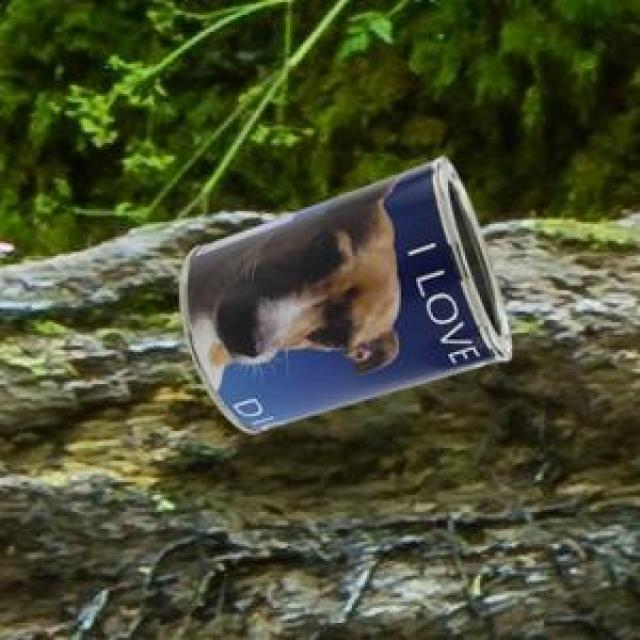logam: (176, 155, 509, 430)
